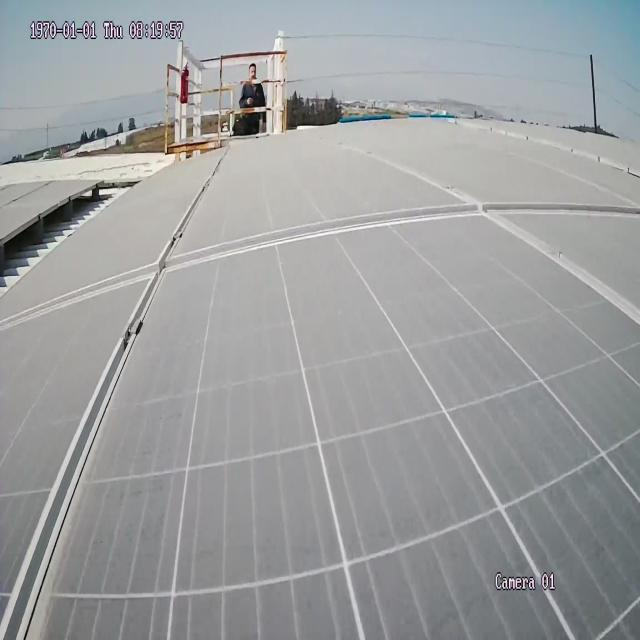interior panel: (0, 133, 640, 640)
outher panel: (0, 178, 143, 303)
